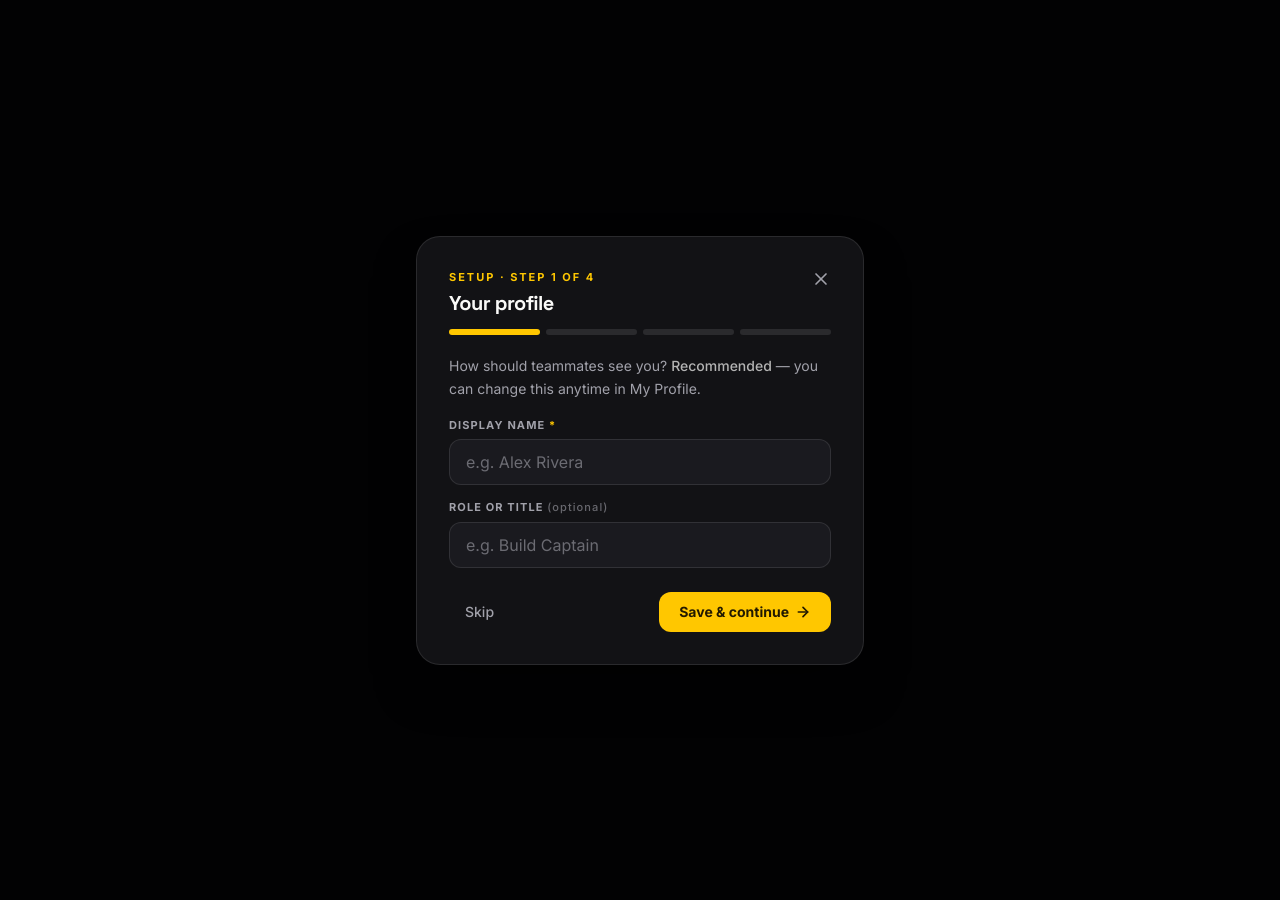
Test: SetupWizard › scenario 9 — blank display name is rejected with an announced error
Step 1. Click the button "Save & continue" → (745, 612), box [659, 592, 831, 632]
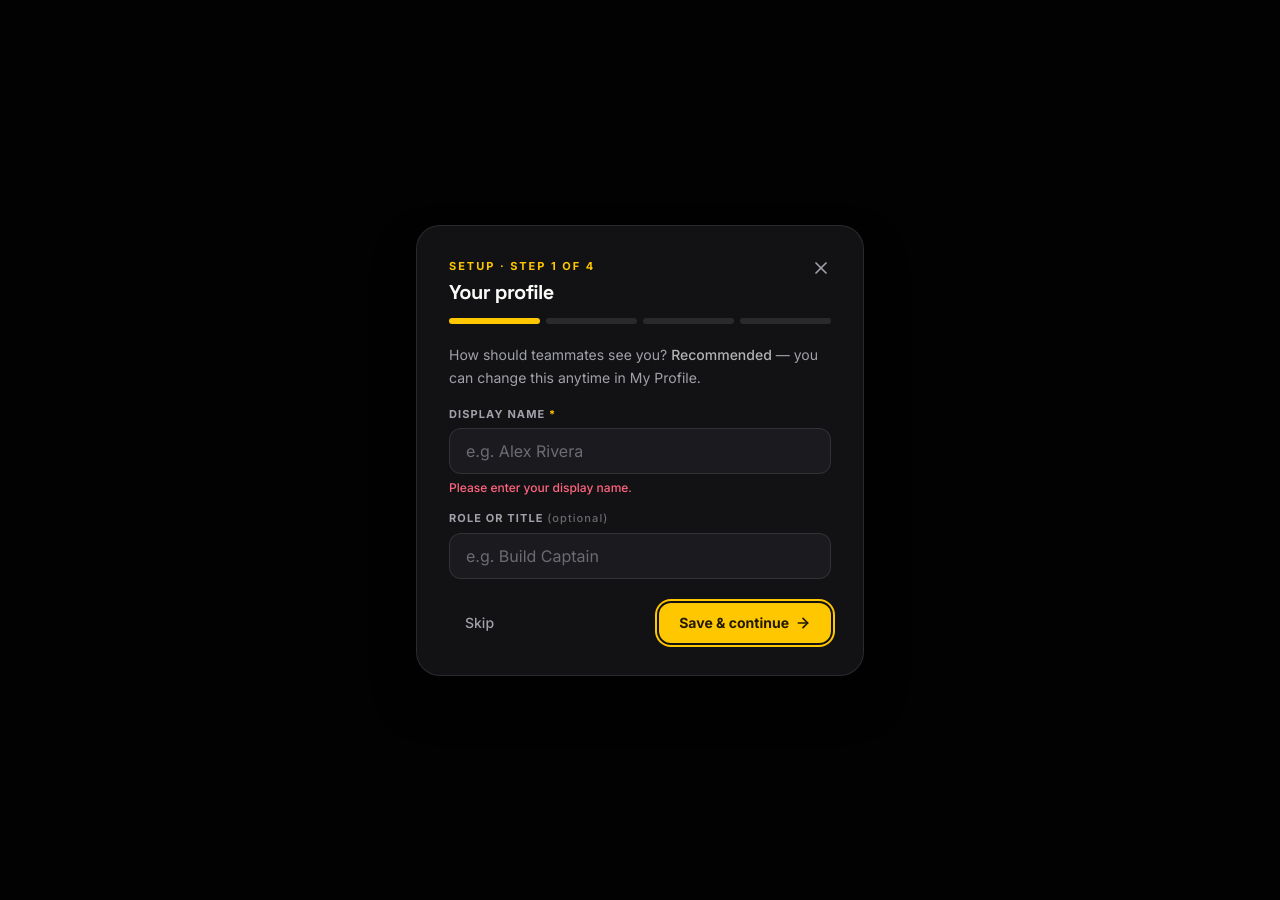
Check: the message shows "display name", box [449, 480, 632, 495]
